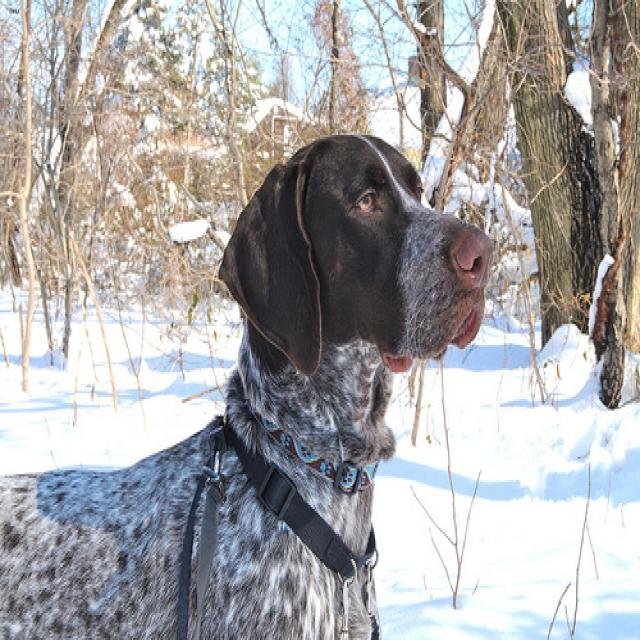dog-german_shorthaired: (1, 118, 503, 636)
